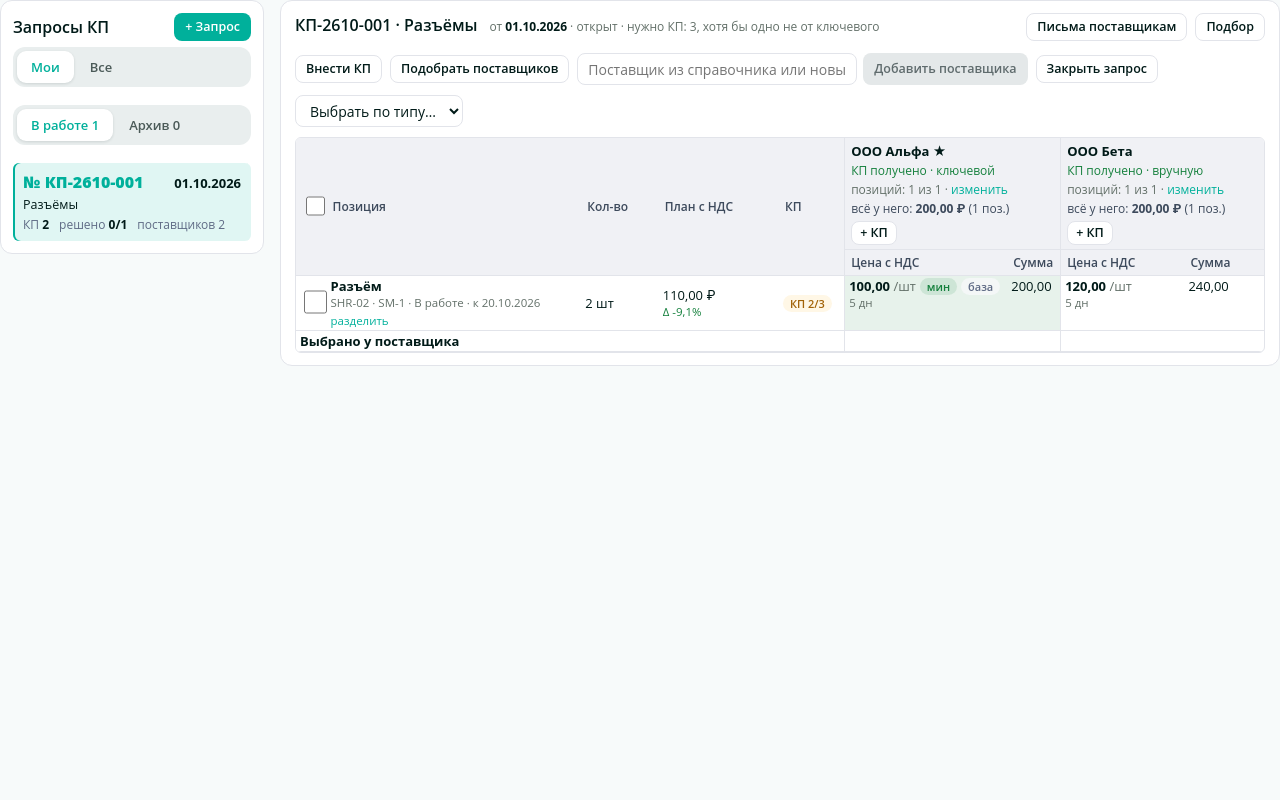
it: the cheapest offer asks only for the gate reason when too few quotes came
Click the button with aria-label "Разъём — ООО Альфа".
click(926, 303)  # box [844,276,1007,330]
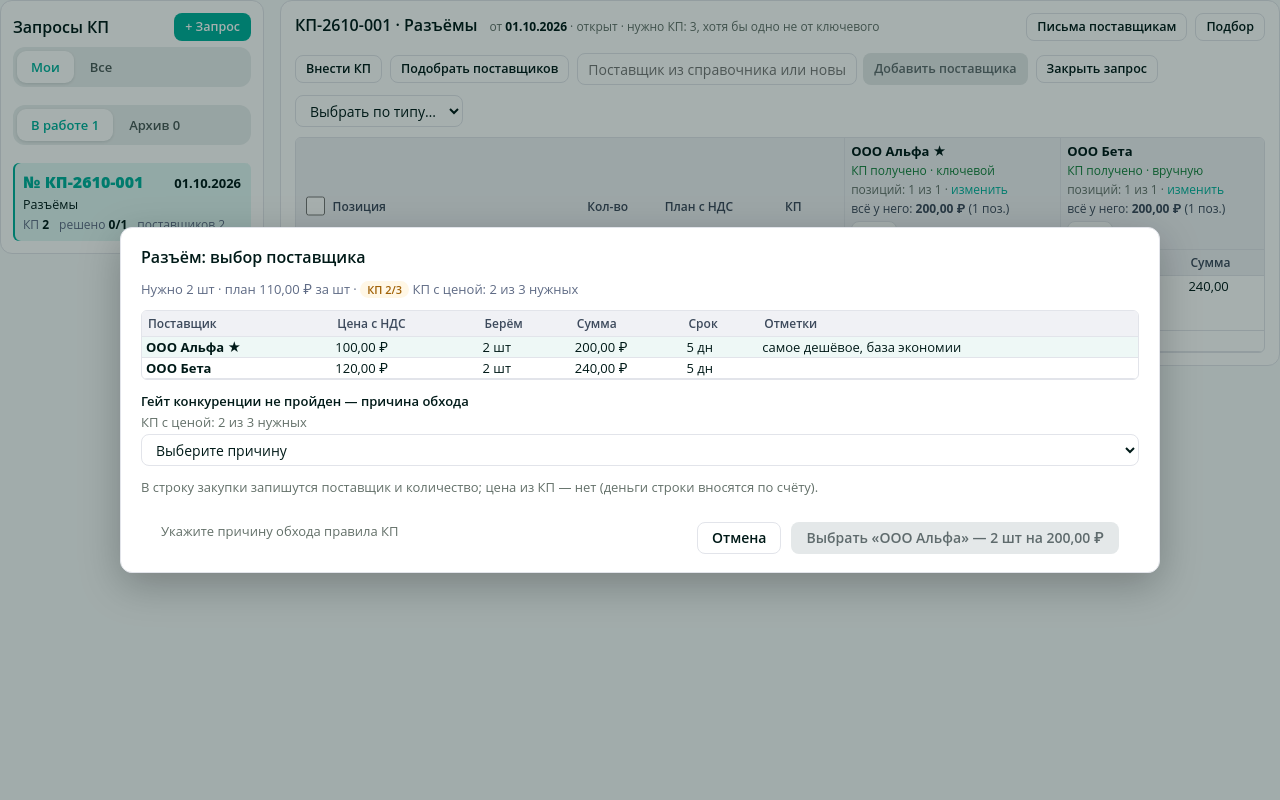
Expected: the dropdown named "Гейт конкуренции не пройден — причина обхода" is shown, [141,434,1139,466]
